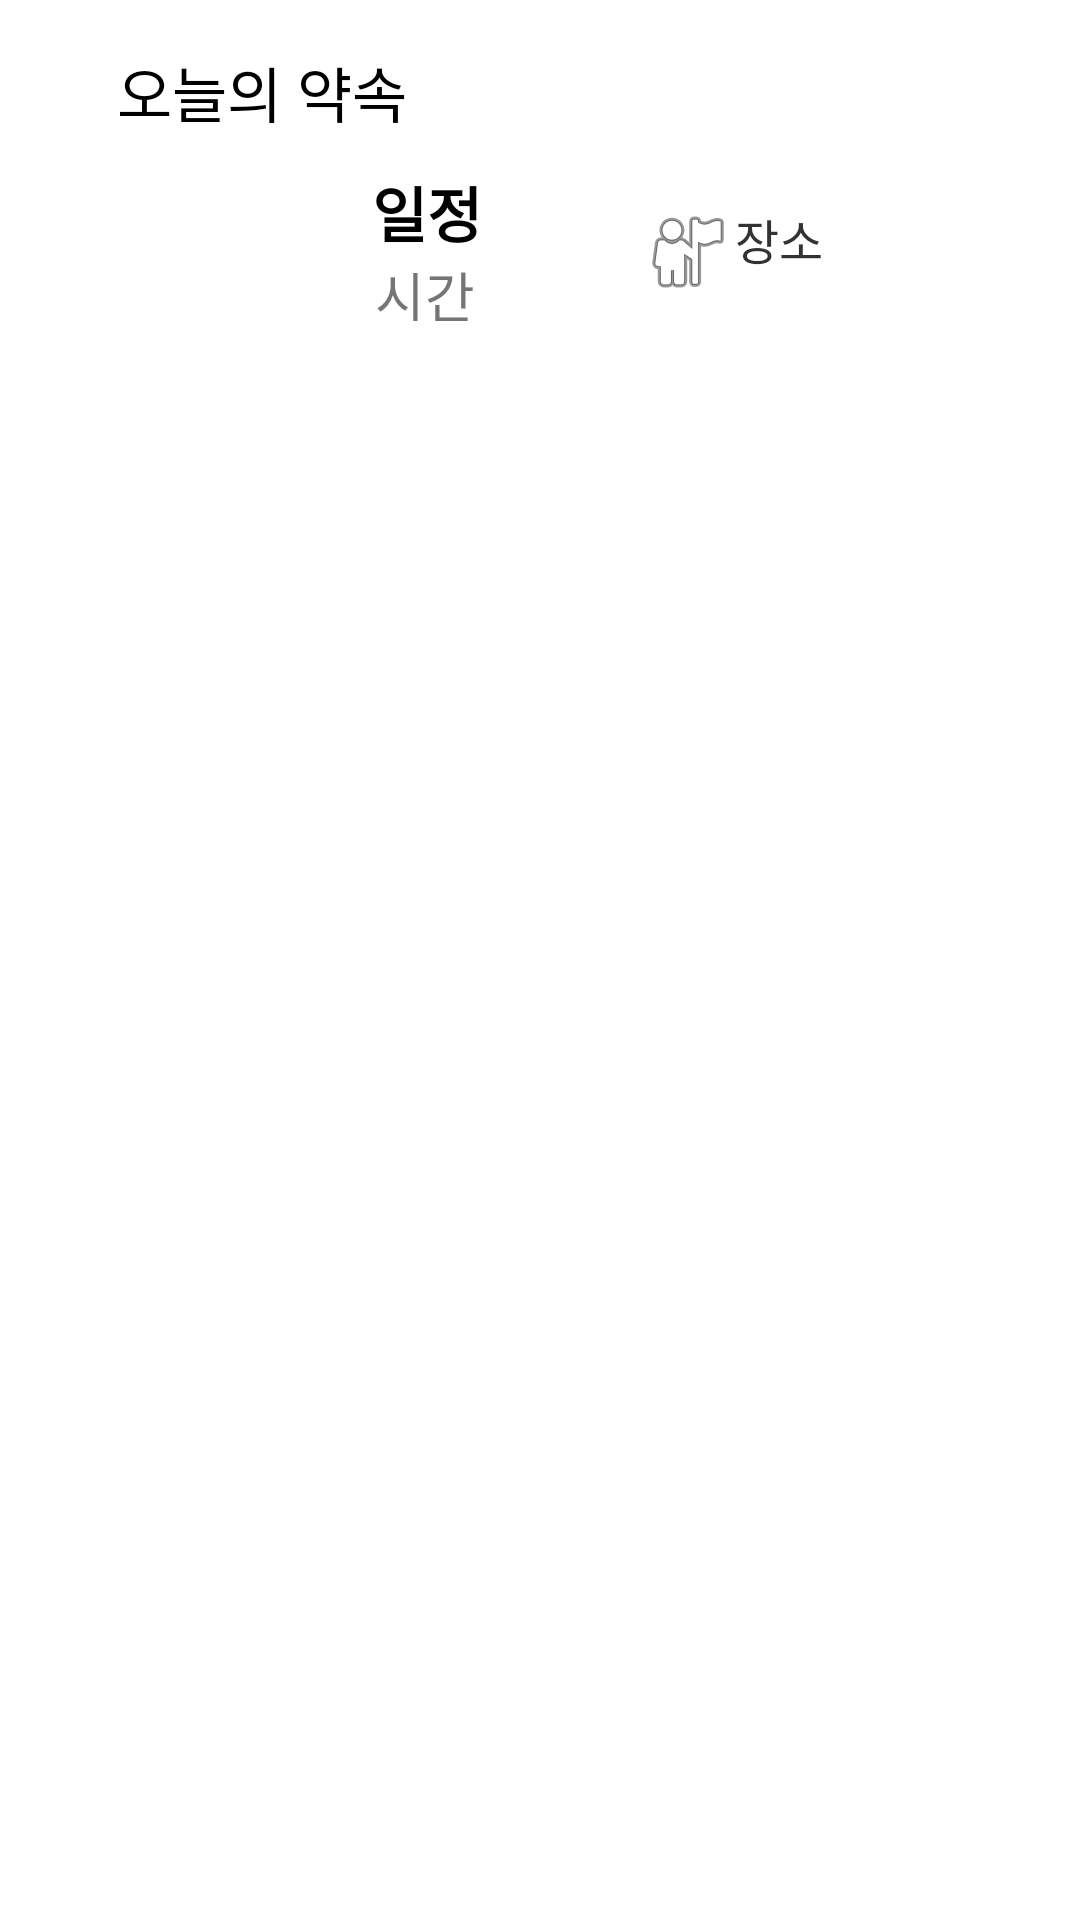

Locate icon controls on the screen. Image size 1080px×1920px, boxes as [x1,y1,x2,y2].
myplaces: [652,216,724,288]
